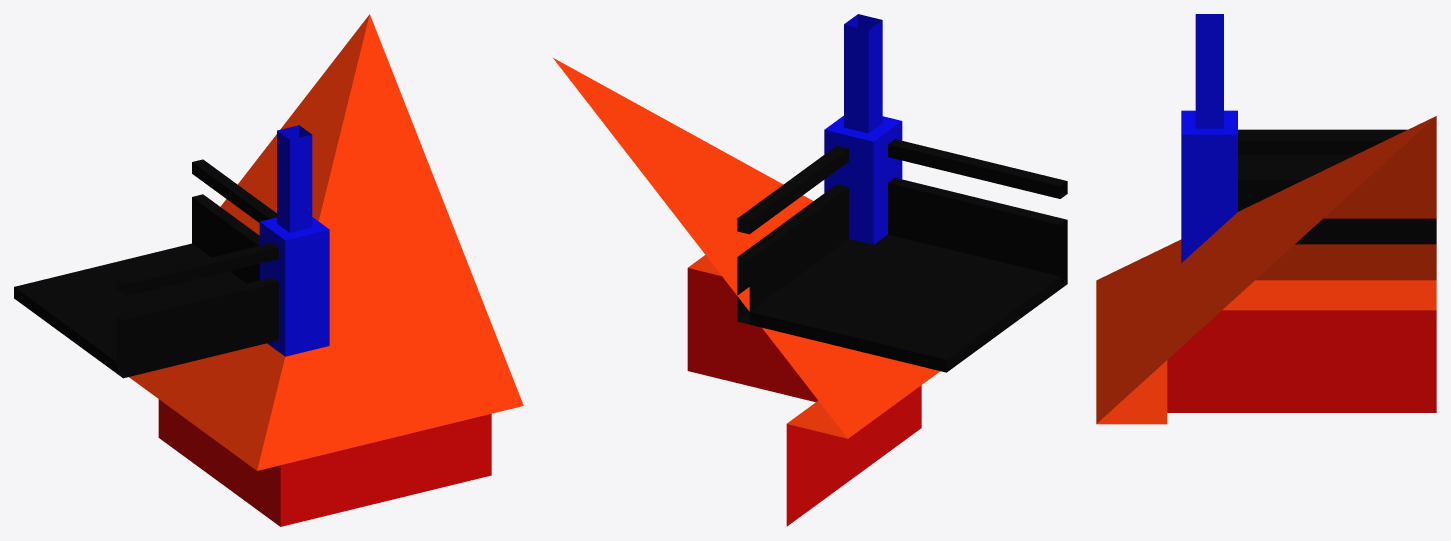
File: None_S_E_E_E_P_E_E_E_BigStrut.fbx
3 renders of one model, left to right at view 1: azimuth 30°, elevation 25°; view 2: azimuth 150°, elevation 25°; view 3: azimuth 270°, elevation 25°, orthographic. The views are drawn at different scales.
Visible parts, largest first — view 1: None_S_E_E_E_P_E_E_E_BigStrut; view 2: None_S_E_E_E_P_E_E_E_BigStrut; view 3: None_S_E_E_E_P_E_E_E_BigStrut.
Part boxes in pixels (<box>): None_S_E_E_E_P_E_E_E_BigStrut: <box>14,14,523,526</box>; None_S_E_E_E_P_E_E_E_BigStrut: <box>553,14,1067,526</box>; None_S_E_E_E_P_E_E_E_BigStrut: <box>1096,14,1436,424</box>.
Bounding box in the file's own units: 100 × 100 × 75.
